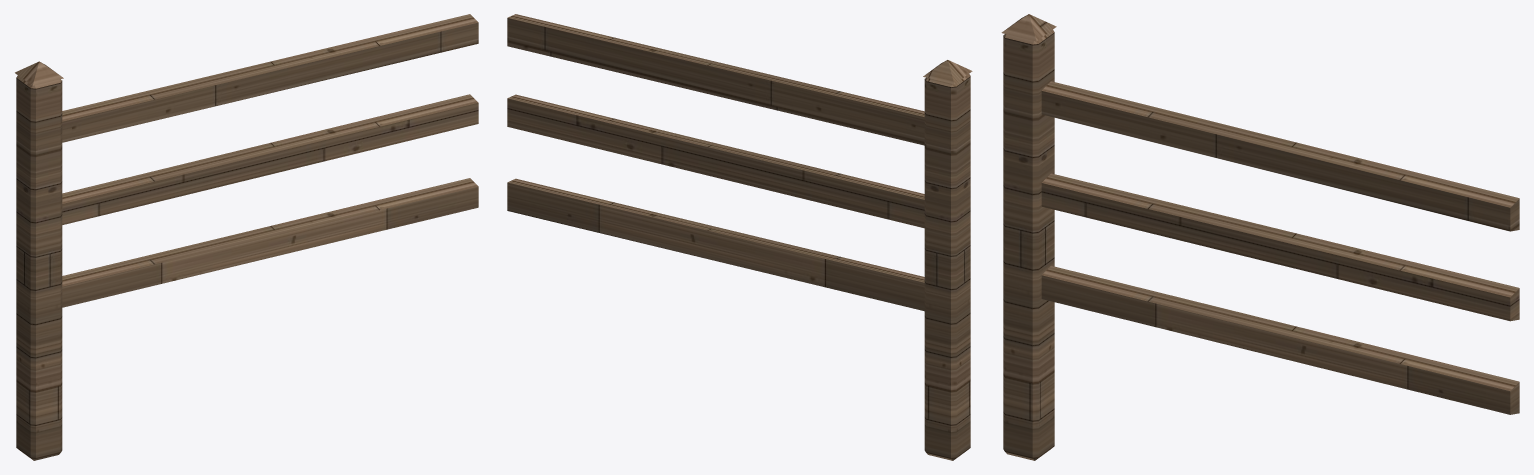
File: rail_fence_2.glb
The picture shows the model from 3 angles, left to right: view 1: azimuth 30°, elevation 25°; view 2: azimuth 150°, elevation 25°; view 3: azimuth 330°, elevation 25°; orthographic projection. The views are drawn at different scales.
Parts seen in each view (by area): view 1: rail_fence_2_rail; view 2: rail_fence_2_rail; view 3: rail_fence_2_rail.
Boxes of the visible parts, bbox=[...] form: rail_fence_2_rail: bbox=[15, 14, 478, 460]; rail_fence_2_rail: bbox=[507, 14, 972, 460]; rail_fence_2_rail: bbox=[1001, 14, 1519, 460].
Bounding box in the file's own units: 2 × 1.66 × 0.14.
1 material, 1 textured.
